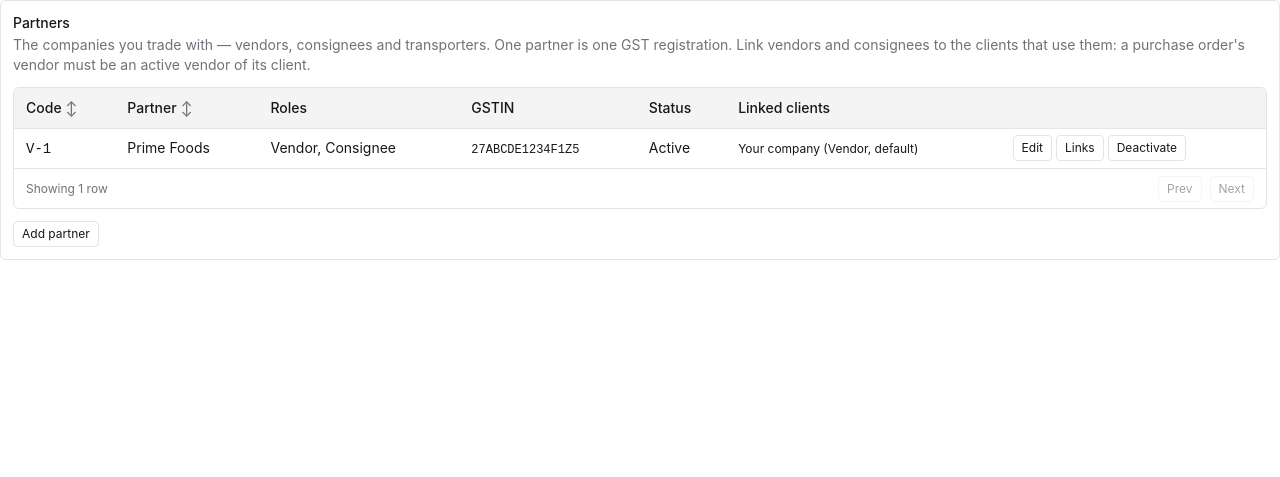
Scenario: PartnersCard: the consignee shelf-life rule (story 4-3b) › only a consignee row offers "Shelf life" (a switched-off one too) and shows its rule
The width and height of the screenshot is (1280, 477).
Click the button "Links" at (1080, 148), box x1=1056 y1=135 x2=1104 y2=161
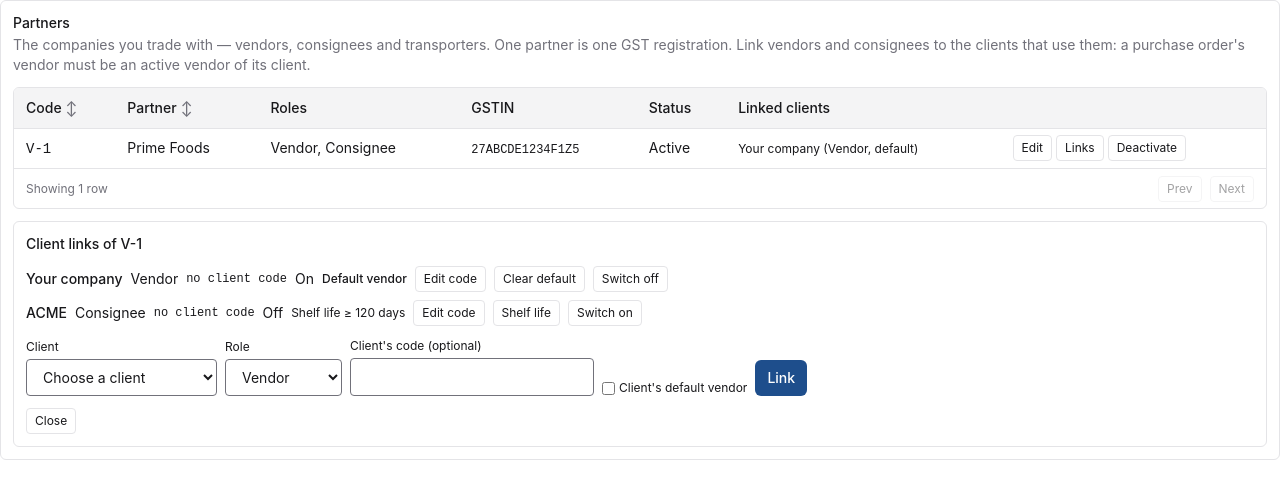
Check: the list item that starts with "ACME" shows "Shelf life ≥ 120 days", box x1=291 y1=305 x2=405 y2=320
